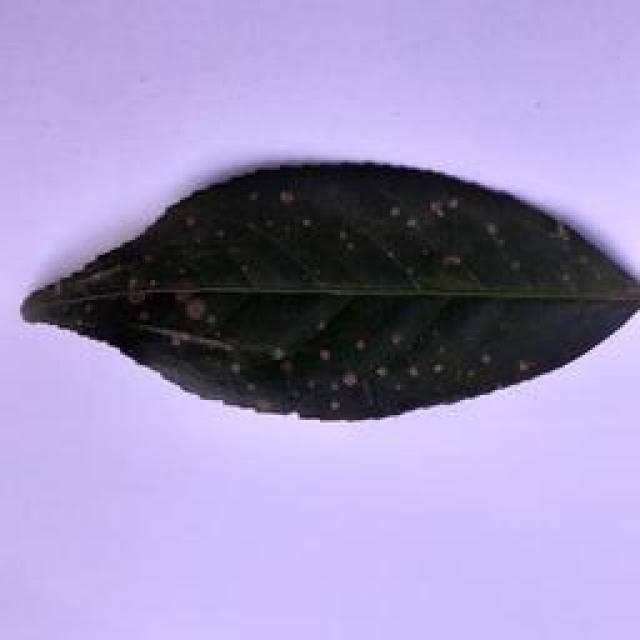Algal Leaf Spot: (8, 152, 640, 430)
